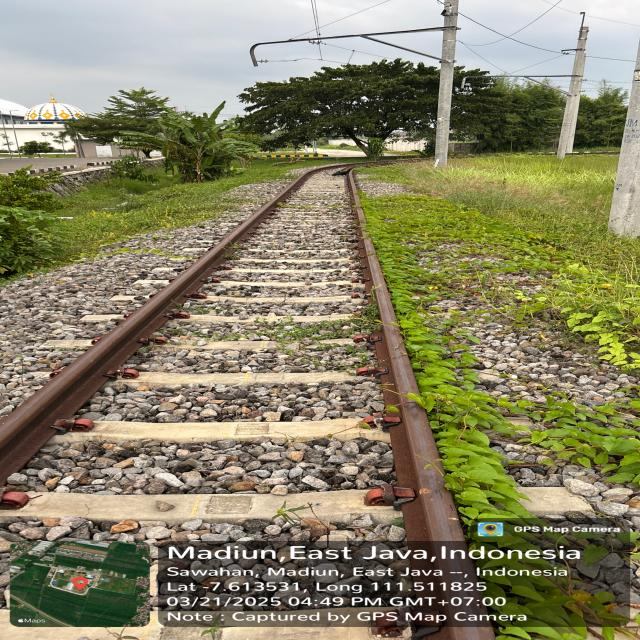rail-detection: (0, 171, 315, 480), (349, 173, 495, 640)
